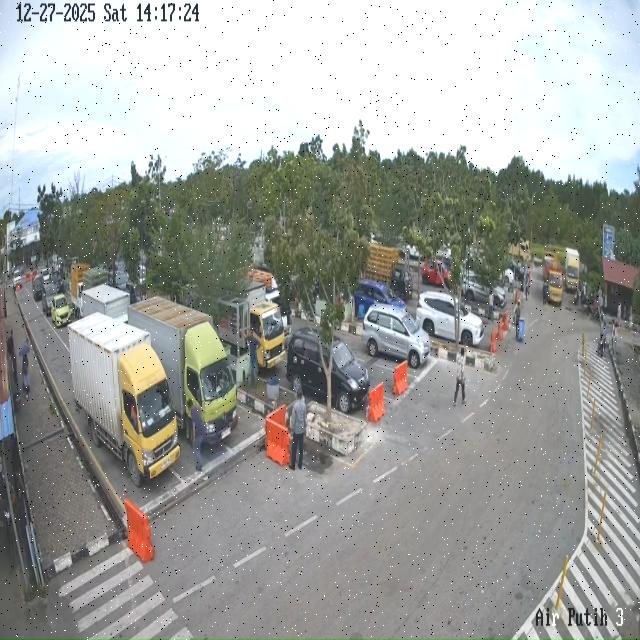Golongan IVA: (286, 327, 370, 414), (362, 304, 430, 368), (416, 290, 484, 347), (354, 279, 406, 317), (462, 272, 506, 308), (51, 294, 71, 328), (42, 282, 58, 315), (32, 274, 44, 302)
Golongan VB: (68, 313, 180, 486), (128, 297, 238, 443), (218, 281, 286, 369), (545, 248, 566, 305), (564, 248, 580, 292)
